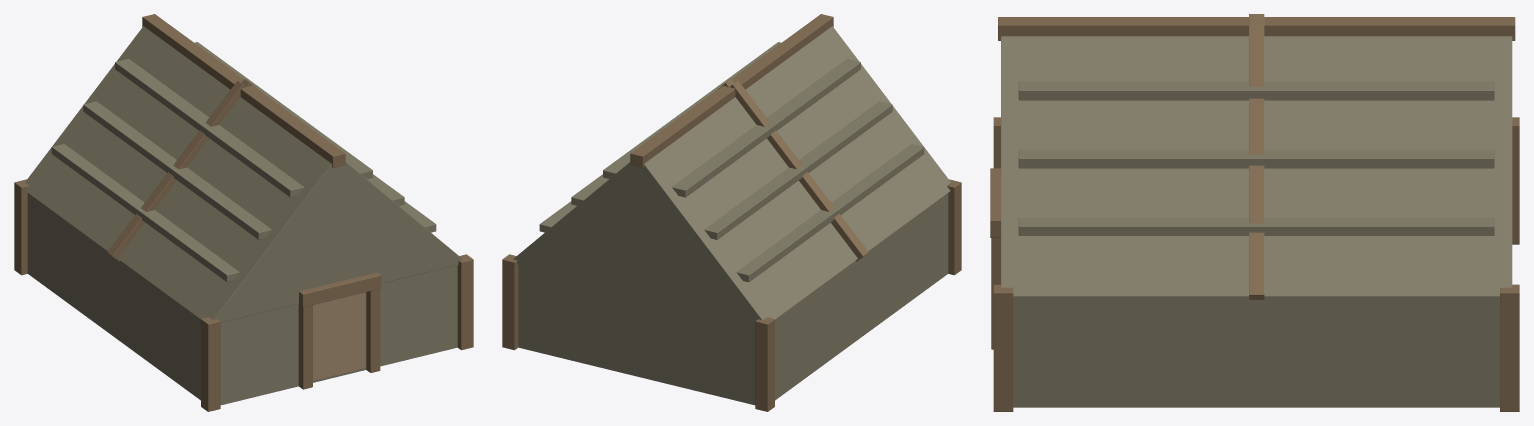
Rendered from House_Meso_b.glb.
3 views of the same model, side by side, from view 1: azimuth 30°, elevation 25°; view 2: azimuth 150°, elevation 25°; view 3: azimuth 270°, elevation 25° (orthographic). The views are drawn at different scales.
Parts seen in each view (by area): view 1: House_Meso_b; view 2: House_Meso_b; view 3: House_Meso_b.
Part boxes in pixels (bbox=[...]): House_Meso_b: bbox=[14, 14, 473, 411]; House_Meso_b: bbox=[502, 14, 961, 411]; House_Meso_b: bbox=[990, 14, 1519, 411].
Size of what is drawn, in the model's own units: 3.82 by 3.09 by 4.81.
